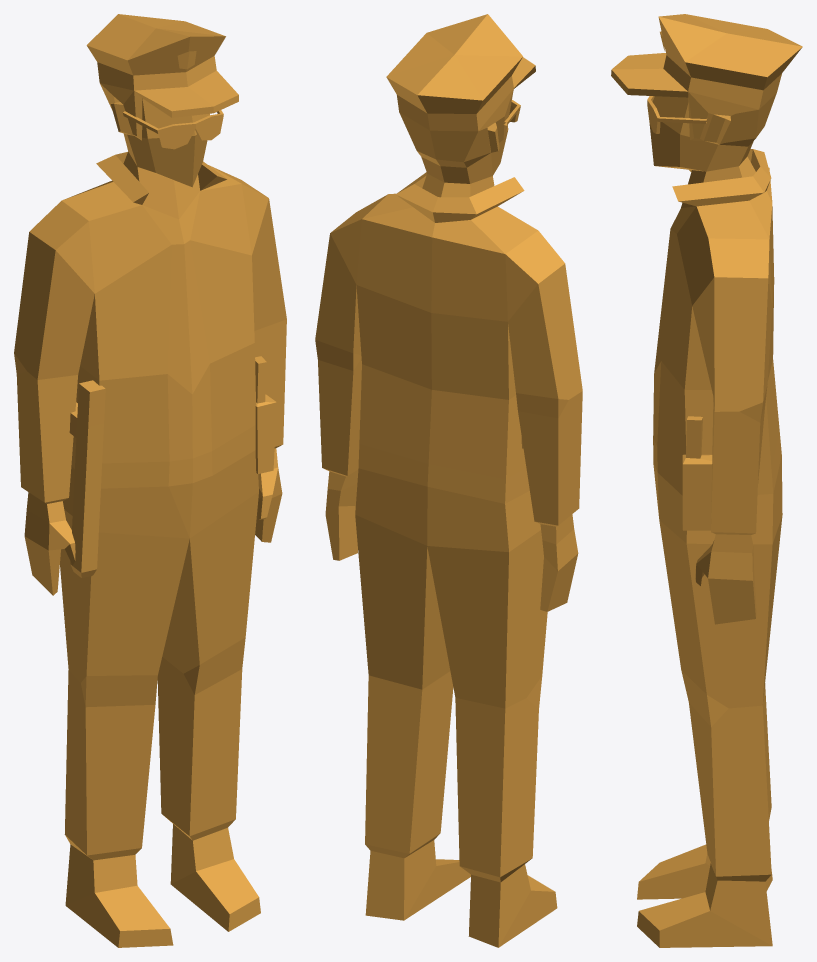
Rendered from man-police.fbx.
3 renders of one model, left to right at view 1: azimuth 30°, elevation 25°; view 2: azimuth 150°, elevation 25°; view 3: azimuth 270°, elevation 25°, orthographic. The views are drawn at different scales.
Visible parts, largest first — view 1: man-police; view 2: man-police; view 3: man-police.
Part boxes in pixels (<box>): man-police: <box>14,14,286,947</box>; man-police: <box>315,14,582,947</box>; man-police: <box>611,14,802,947</box>.
Bounding box in the file's own units: 0.5438 × 1.86 × 0.3613.
